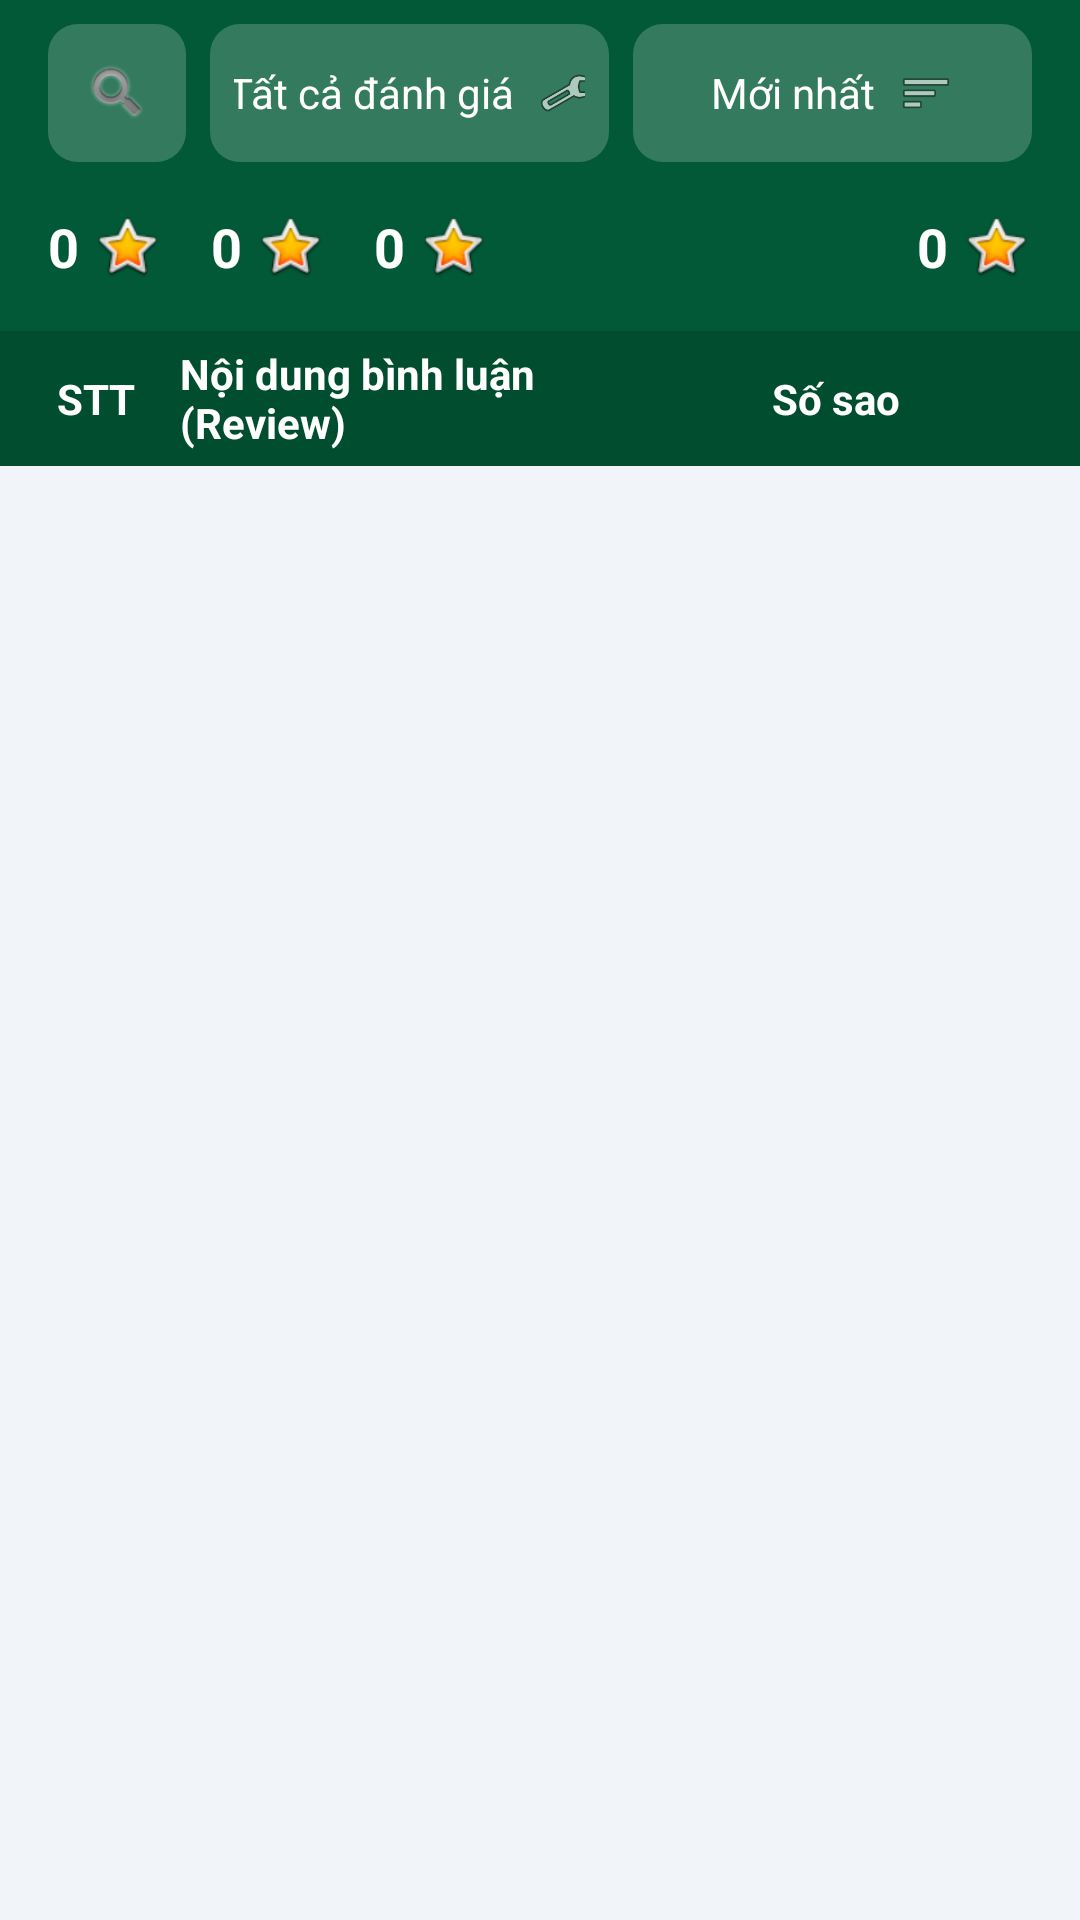

Where to tap for icons on this 1080×1920 app screen, as (x=x, y=y):
manage: (x=563, y=93)
search category: (x=117, y=93)
sort by size: (x=926, y=93)
star on: (x=128, y=246), (x=291, y=246), (x=454, y=246), (x=997, y=246)
